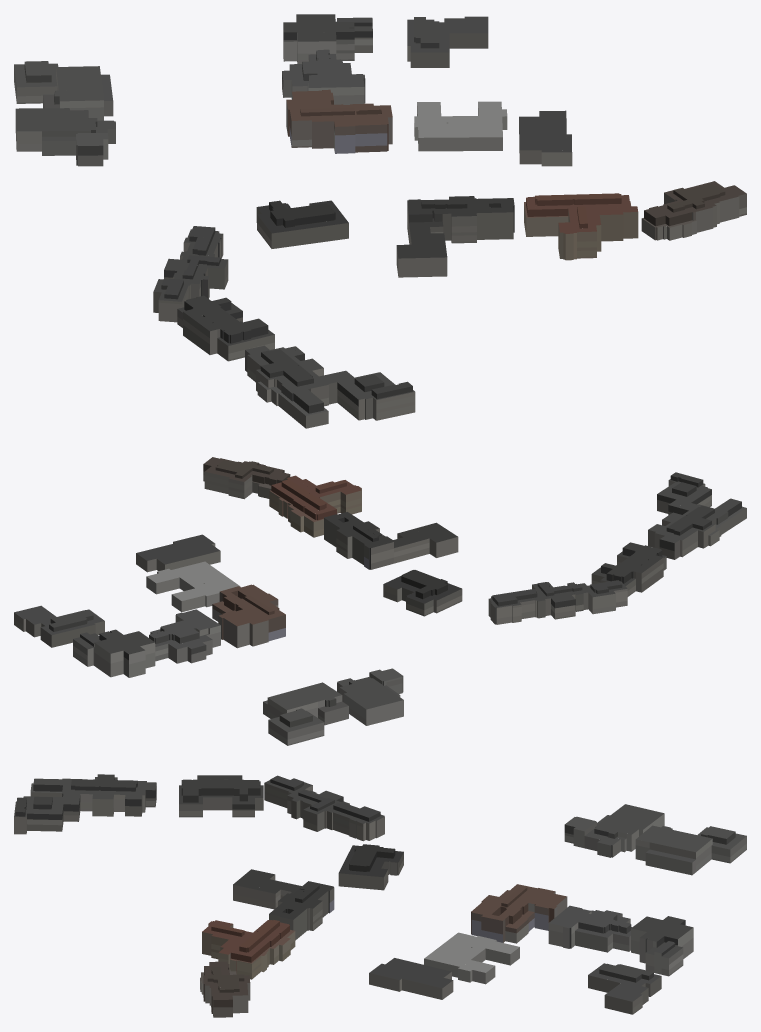
Rendered from t_-5_-4.far.glb.
3 views of the same model, one above another, from view 1: azimuth 30°, elevation 25°; view 2: azimuth 150°, elevation 25°; view 3: azimuth 270°, elevation 25° (orthographic). The views are drawn at different scales.
Visible parts, largest first — view 1: opaque; view 2: opaque; view 3: opaque.
Boxes of the visible parts, x1,y1,x2,y2 form: opaque: (14,14,746,428); opaque: (14,457,746,745); opaque: (14,774,746,1017).
Bounding box in the file's own units: 189 × 10.39 × 260.
Materials: 1 (1 with a texture image).
